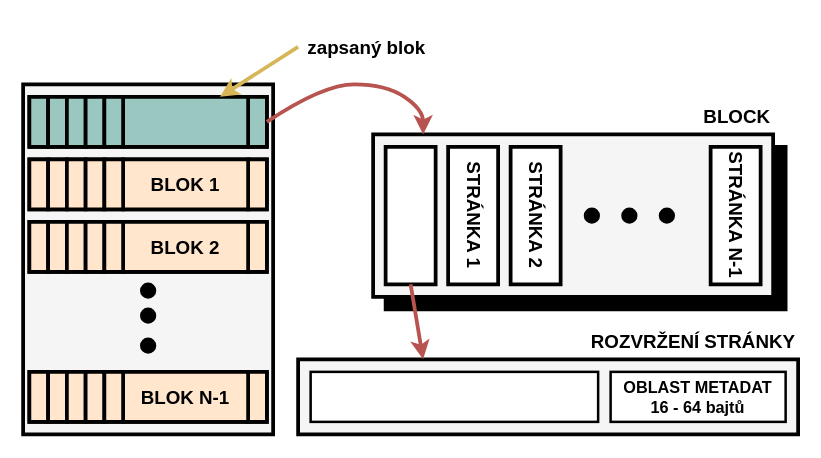
The diagram is 821 pixels wide and 458 high, and some of its shapes have lost their labels. Here are the shapes that lost their labels. From the top down, the box of each, then its label:
(121, 94, 249, 148): BLOK 0
(383, 144, 437, 286): STRÁNKA 0
(309, 370, 599, 422): DATOVÁ OBLAST (512 - 2048 bajtů)
